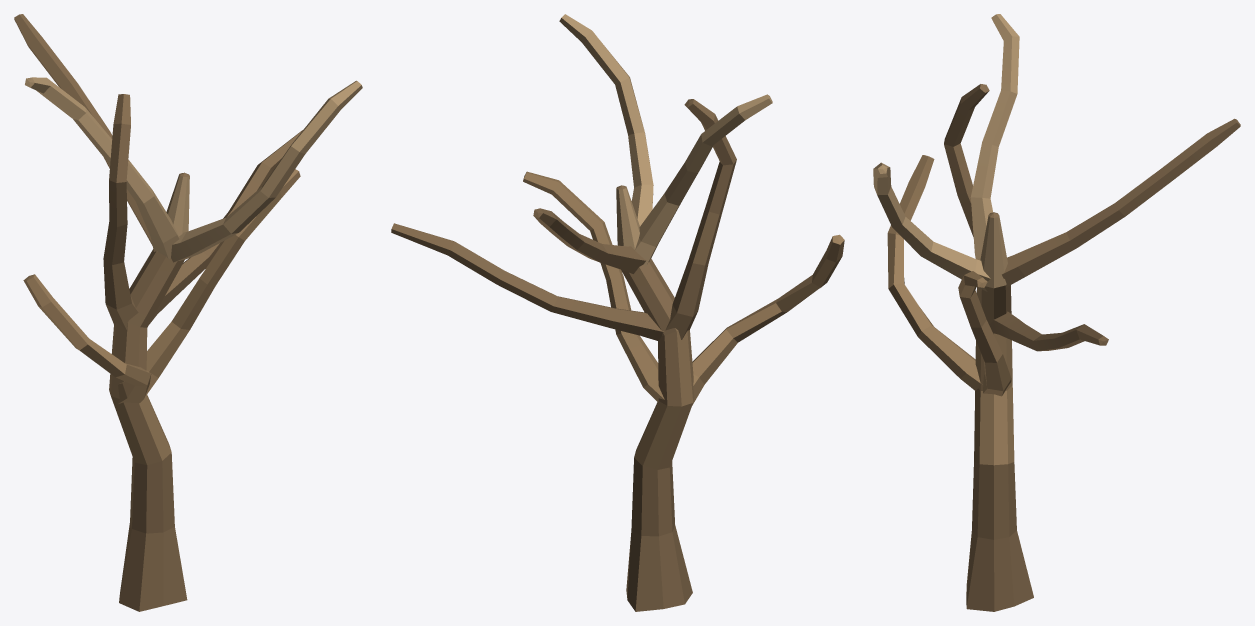
Rendered from naked_tree_10.fbx.
The picture shows the model from 3 angles, left to right: view 1: azimuth 30°, elevation 25°; view 2: azimuth 150°, elevation 25°; view 3: azimuth 270°, elevation 25°; orthographic projection. The views are drawn at different scales.
Parts seen in each view (by area): view 1: naked_tree_10; view 2: naked_tree_10; view 3: naked_tree_10.
Part boxes in pixels (<box>): naked_tree_10: <box>14,14,362,611</box>; naked_tree_10: <box>391,14,844,611</box>; naked_tree_10: <box>873,14,1240,611</box>.
Bounding box in the file's own units: 416 × 580 × 365.
